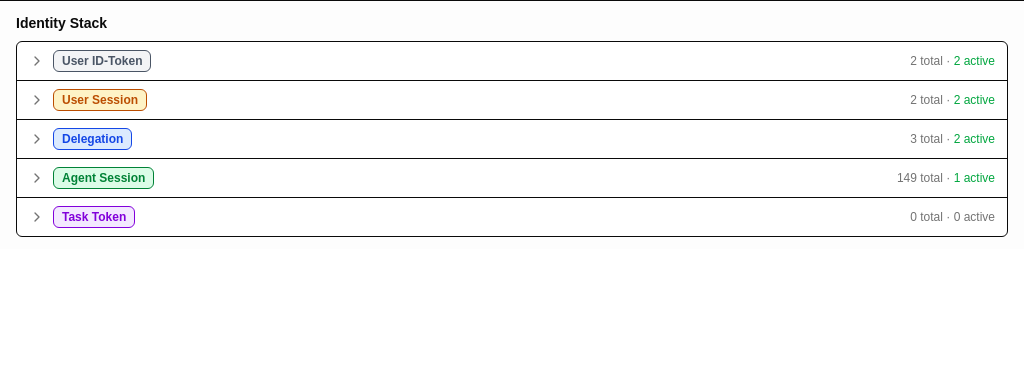
Scenario: IdentityStackPanel › accordion expand/collapse — clicking one collapses the other
What coordinates should you click on to do the following:
click the text "Delegation"
I would click on:
 (93, 139)
Its box is 53,128 -> 132,150.
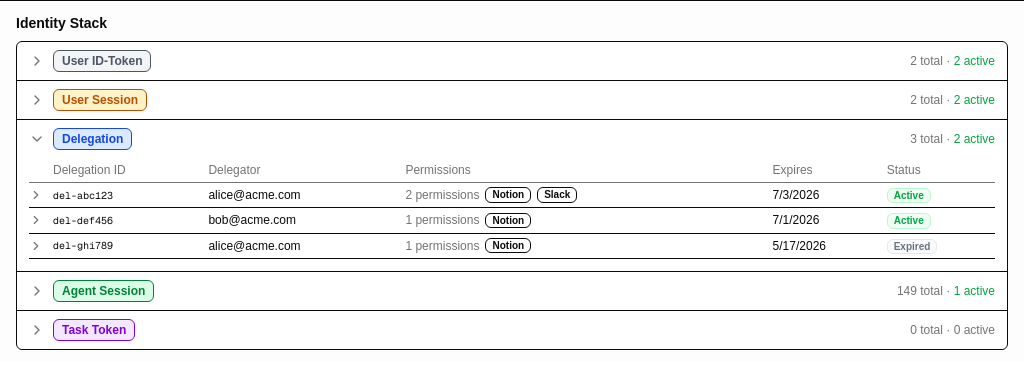
Now the text "alice@acme.com" next to "del-abc123" is shown, box 208,188 -> 301,202
What coordinates should you click on to do the following:
click the text "Agent Session"
I would click on:
 (104, 291)
Its box is 53,280 -> 154,302.
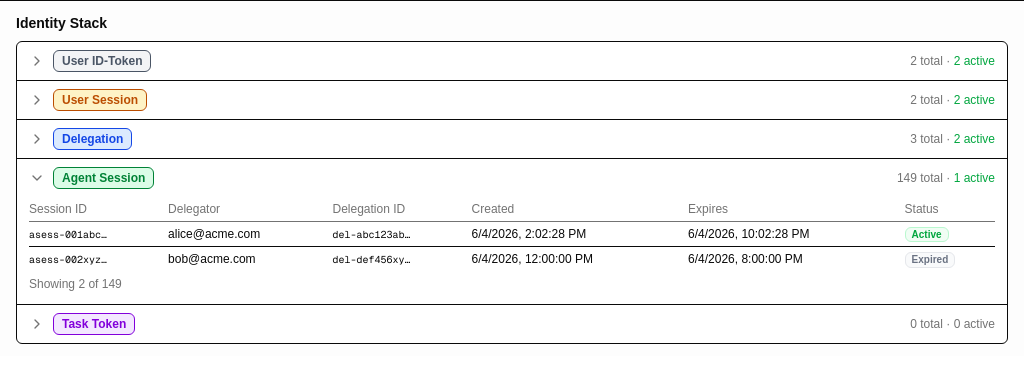
Now the text "Showing 2 of 149" is shown, box 29,277 -> 122,291
Now the text "asess-001abc…" is shown, box 29,222 -> 168,247
